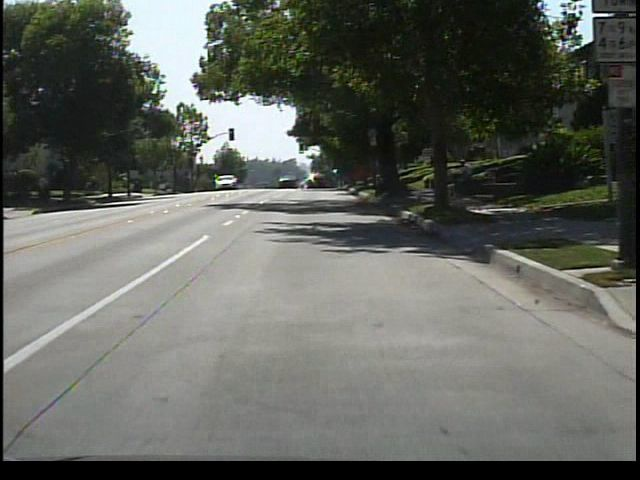person: (454, 155, 478, 197)
